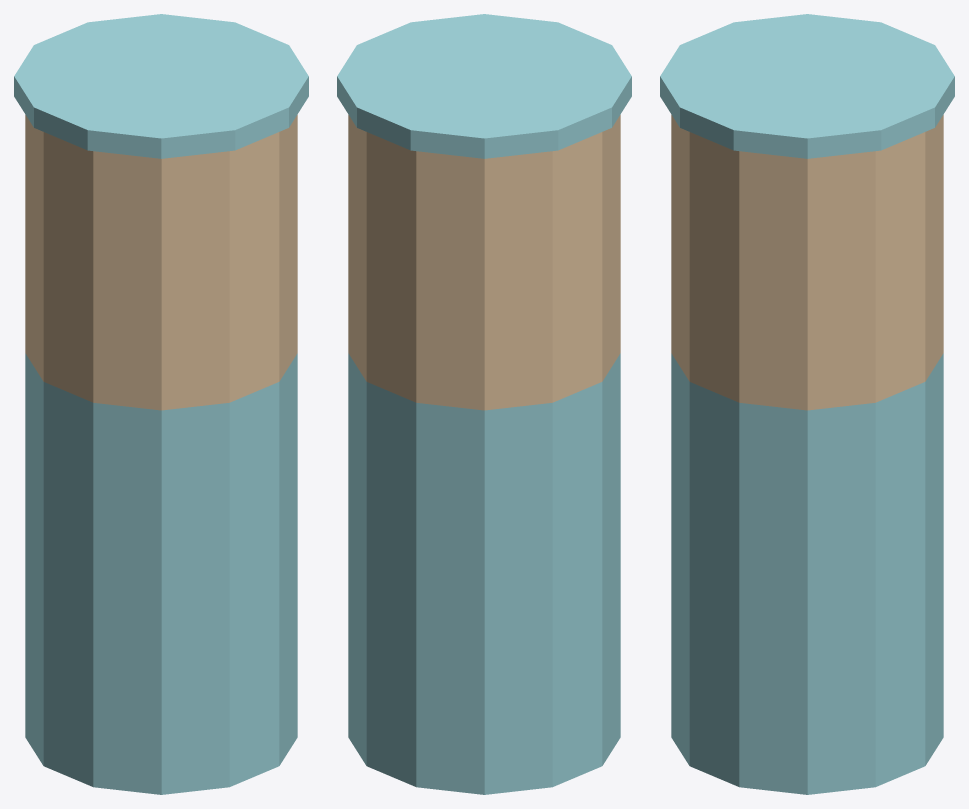
The model's file is Ürün70.fbx.
3 views of the same model, side by side, from view 1: azimuth 30°, elevation 25°; view 2: azimuth 150°, elevation 25°; view 3: azimuth 270°, elevation 25° (orthographic).
Parts seen in each view (by area): view 1: pCylinder49; view 2: pCylinder49; view 3: pCylinder49.
Part boxes in pixels (x1,y1,x2,y2): pCylinder49: (14, 14, 308, 794); pCylinder49: (337, 14, 631, 794); pCylinder49: (660, 14, 954, 794).
Size of the model in its own units: 11.6 by 28.73 by 11.6.
